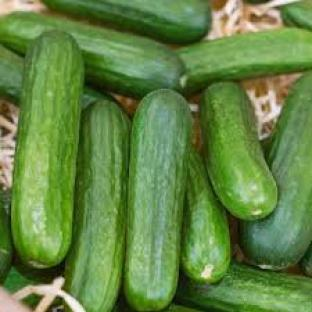Cucumber: (12, 31, 83, 267), (0, 13, 187, 97), (124, 89, 191, 310), (240, 73, 311, 269), (66, 100, 130, 311), (200, 82, 277, 220), (179, 28, 311, 94), (182, 147, 231, 282), (177, 264, 311, 311), (3, 264, 62, 293), (0, 46, 23, 105), (0, 189, 13, 282), (82, 88, 115, 109), (301, 245, 311, 277), (163, 304, 199, 311)
